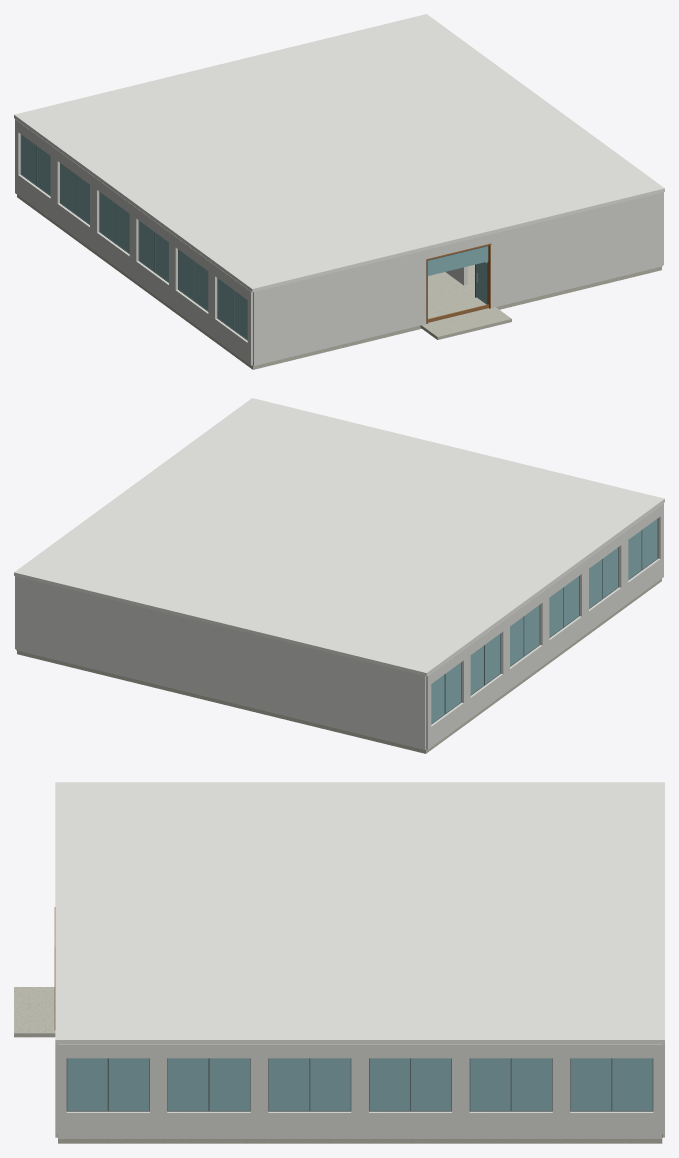
Rendered from teaching.glb.
The picture shows the model from 3 angles, top to bottom: view 1: azimuth 30°, elevation 25°; view 2: azimuth 150°, elevation 25°; view 3: azimuth 270°, elevation 25°; orthographic projection. The views are drawn at different scales.
Visible parts, largest first — view 1: interior-batch__interior-ceiling, interior-batch__interior-plaster, interior-batch__interior-glass, interior-batch__interior-terrazzo, interior-batch__interior-metal, interior-batch__interior-oak; view 2: interior-batch__interior-ceiling, interior-batch__interior-plaster, interior-batch__interior-glass, interior-batch__interior-terrazzo, interior-batch__interior-metal; view 3: interior-batch__interior-ceiling, interior-batch__interior-plaster, interior-batch__interior-glass, interior-batch__interior-terrazzo, interior-batch__interior-metal, interior-batch__interior-white.
Boxes of the visible parts, <box> form: interior-batch__interior-ceiling: <box>14,14,664,292</box>; interior-batch__interior-plaster: <box>15,119,663,365</box>; interior-batch__interior-glass: <box>21,134,488,339</box>; interior-batch__interior-terrazzo: <box>17,195,661,369</box>; interior-batch__interior-metal: <box>20,134,489,340</box>; interior-batch__interior-oak: <box>253,243,491,364</box>; interior-batch__interior-ceiling: <box>14,398,664,676</box>; interior-batch__interior-plaster: <box>15,503,663,749</box>; interior-batch__interior-glass: <box>431,518,657,723</box>; interior-batch__interior-terrazzo: <box>17,579,661,753</box>; interior-batch__interior-metal: <box>431,518,658,724</box>; interior-batch__interior-ceiling: <box>55,782,664,1044</box>; interior-batch__interior-plaster: <box>55,1044,664,1138</box>; interior-batch__interior-glass: <box>67,1058,652,1110</box>; interior-batch__interior-terrazzo: <box>14,987,662,1143</box>; interior-batch__interior-metal: <box>66,1058,653,1111</box>; interior-batch__interior-white: <box>99,1111,653,1112</box>.
Bounding box in the file's own units: 22.22 × 4.22 × 23.7.
Materials: 19 (3 with a texture image).
